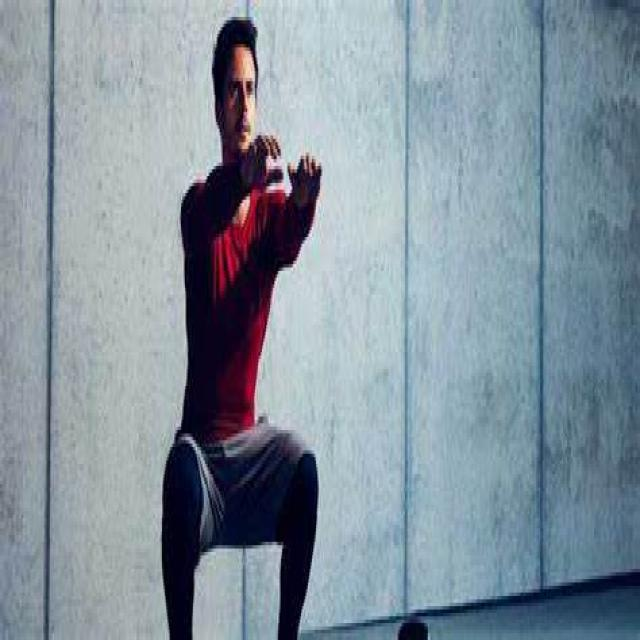sit: (170, 0, 318, 640)
